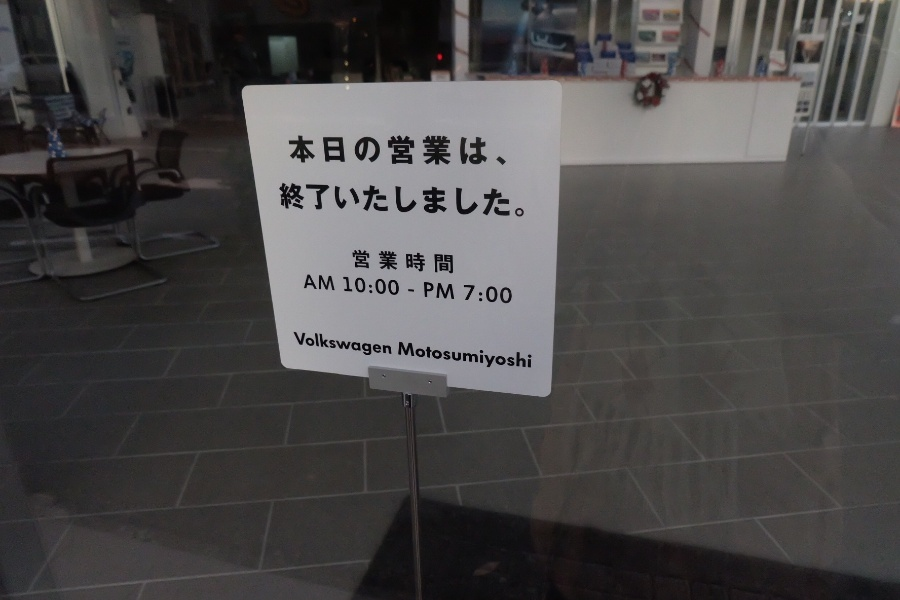text: (289, 183, 304, 218), (305, 183, 320, 218), (321, 183, 336, 218), (337, 183, 352, 218), (353, 183, 368, 218), (369, 183, 384, 218), (385, 183, 400, 218), (401, 183, 416, 218), (417, 183, 432, 218), (433, 183, 448, 218), (449, 183, 464, 218), (465, 183, 480, 218), (481, 183, 496, 218), (497, 183, 512, 218), (289, 136, 304, 166), (305, 136, 320, 166), (321, 136, 336, 166), (337, 136, 352, 166), (353, 136, 368, 166), (369, 136, 384, 166), (385, 136, 400, 166), (401, 136, 416, 166), (417, 136, 432, 166), (433, 136, 448, 166), (449, 136, 464, 166), (465, 136, 480, 166), (481, 136, 496, 166), (401, 342, 416, 371), (417, 342, 432, 371), (433, 342, 448, 371), (449, 342, 464, 371), (465, 342, 480, 371), (481, 342, 496, 371), (497, 342, 512, 371), (513, 342, 528, 371), (513, 183, 525, 218), (305, 332, 320, 359), (321, 332, 336, 359), (337, 332, 352, 359), (353, 332, 368, 359), (369, 332, 384, 359), (353, 249, 368, 274), (369, 249, 384, 274), (385, 249, 400, 274), (401, 249, 416, 274), (417, 249, 432, 274), (433, 249, 448, 274), (279, 183, 288, 218), (497, 136, 507, 166), (353, 277, 368, 296), (369, 277, 384, 296), (465, 285, 480, 304), (481, 285, 496, 304), (497, 285, 512, 304), (433, 282, 448, 300), (294, 332, 304, 359), (385, 277, 399, 296), (321, 275, 335, 291), (308, 275, 320, 291), (385, 332, 392, 359), (344, 277, 352, 296), (424, 282, 432, 300), (449, 282, 455, 300), (449, 249, 453, 274), (529, 342, 532, 371), (399, 342, 400, 371)
